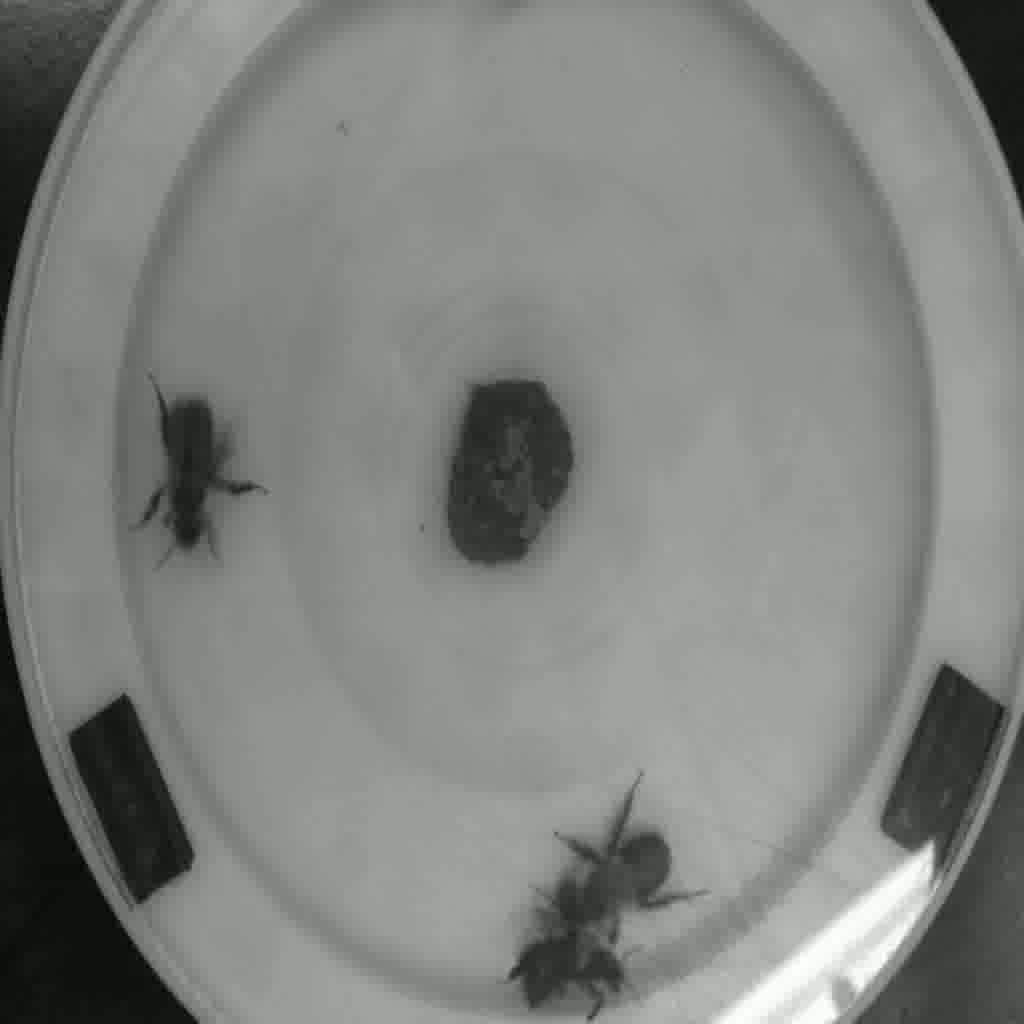bee: (126, 402, 269, 551), (540, 817, 688, 931), (494, 938, 651, 1022)
